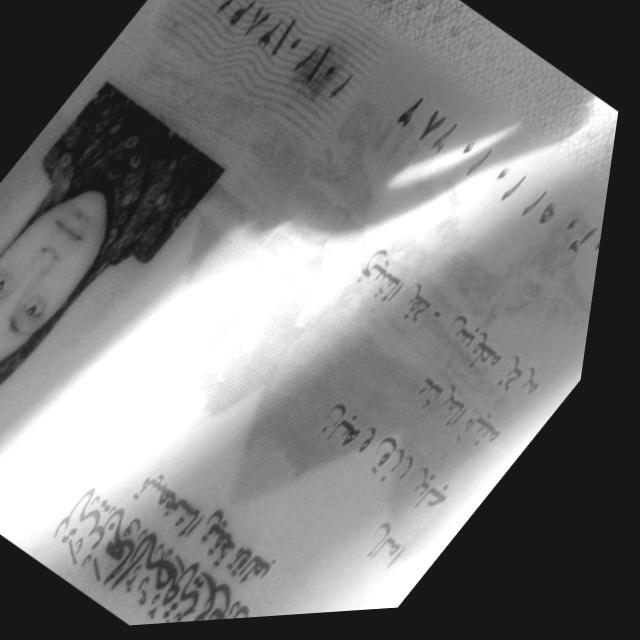id_card: (0, 0, 618, 625)
